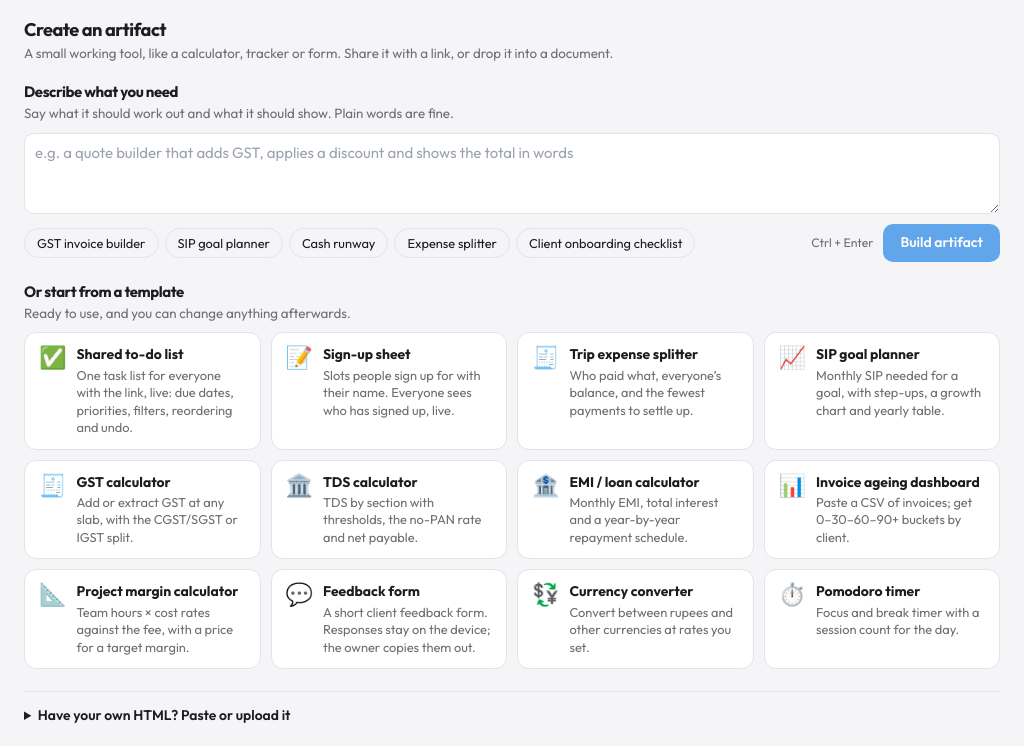
Test: the plan card › preselects every feature, each default answer and the suggested style
Replace the text in the text box named "Describe the artifact" with "make a to do list organiser" at coordinates (512, 174), box x1=24 y1=133 x2=1000 y2=214
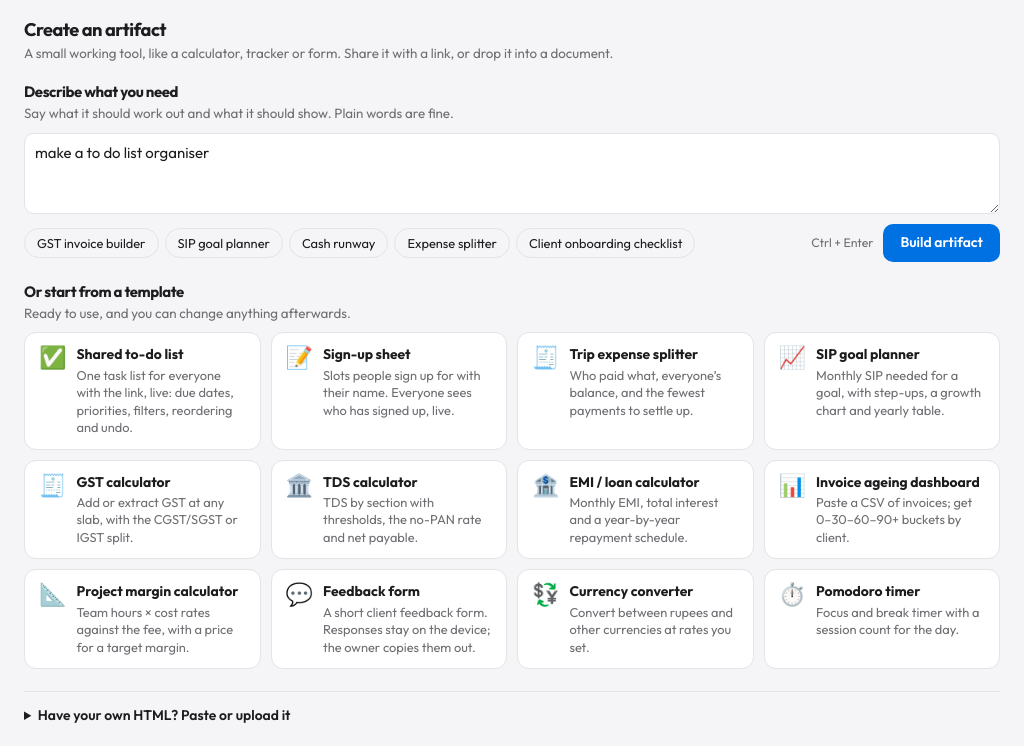
Click the button "Build artifact" at coordinates (942, 243), box x1=883 y1=224 x2=1000 y2=262
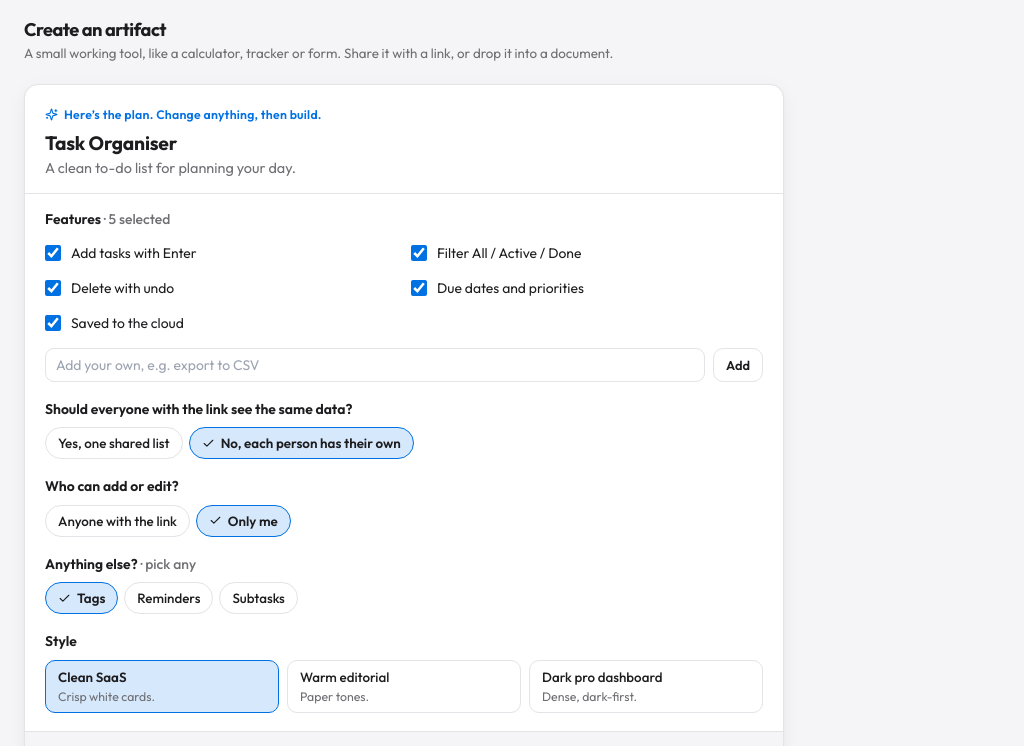
Now the text "A clean to-do list for planning your day." is shown, box x1=45 y1=159 x2=296 y2=177
Now the checkbox labelled "Add tasks with Enter" is checked, box x1=45 y1=245 x2=61 y2=261
Now the checkbox labelled "Filter All / Active / Done" is checked, box x1=411 y1=245 x2=427 y2=261
